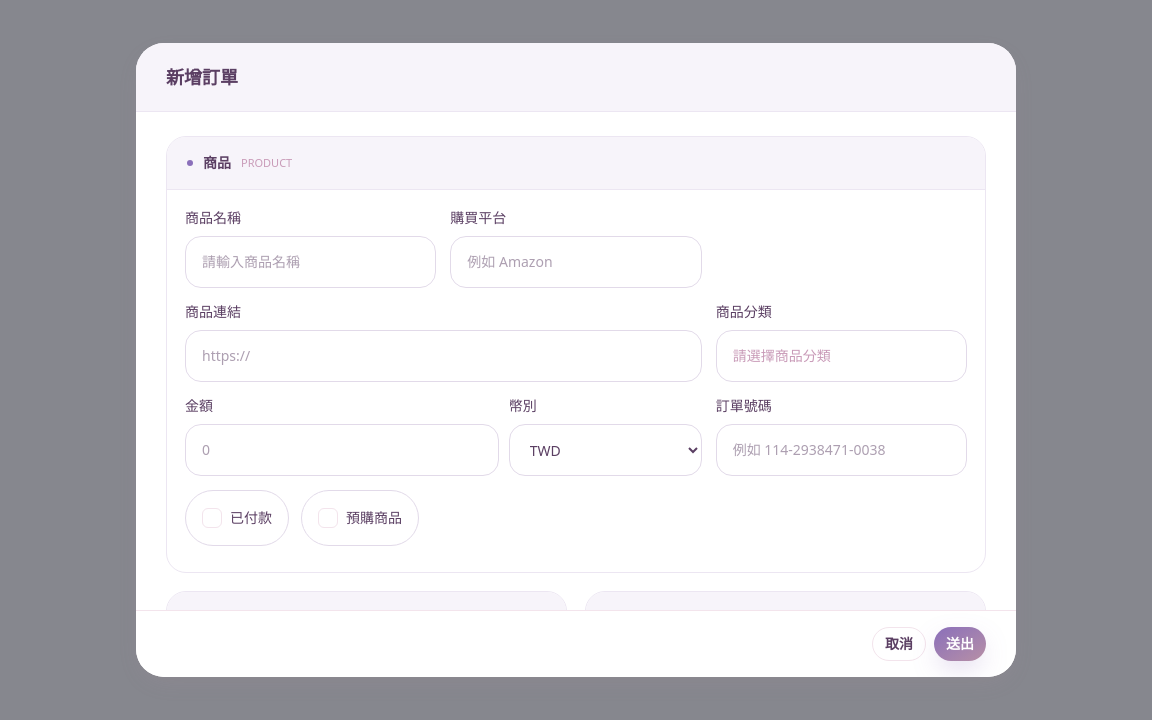
Test: OrderFormModal existing name/amount validation is unaffected › blocks submission and shows an error when product name is blank
The image size is (1152, 720).
In the field labelled "金額": (342, 450) [185, 424, 499, 476], type "100"
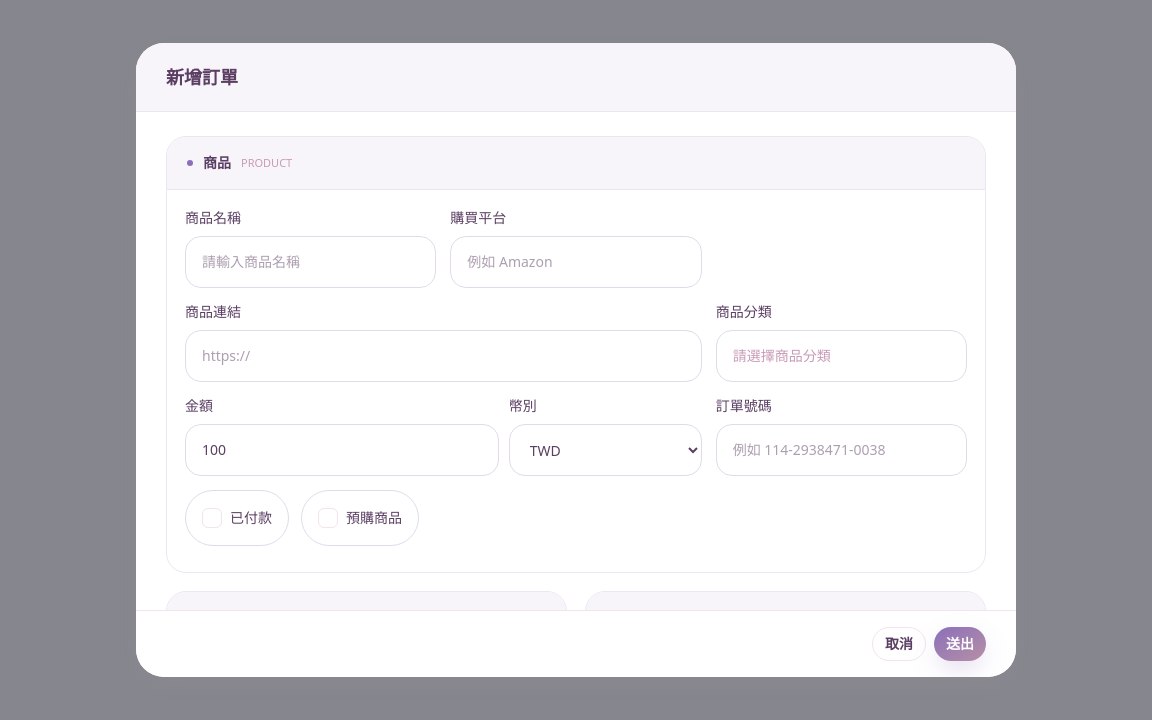
Click the button "請選擇商品分類": (841, 356) [716, 330, 967, 382]
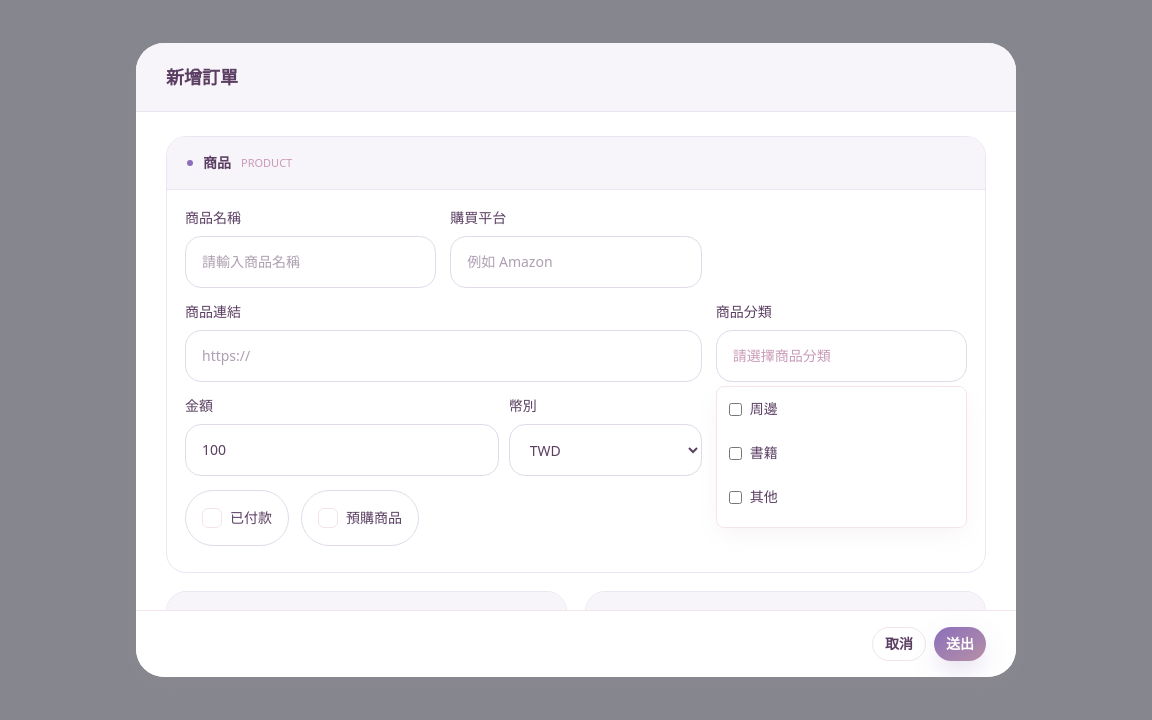
Click the checkbox labelled "周邊": (735, 409) [729, 403, 742, 416]
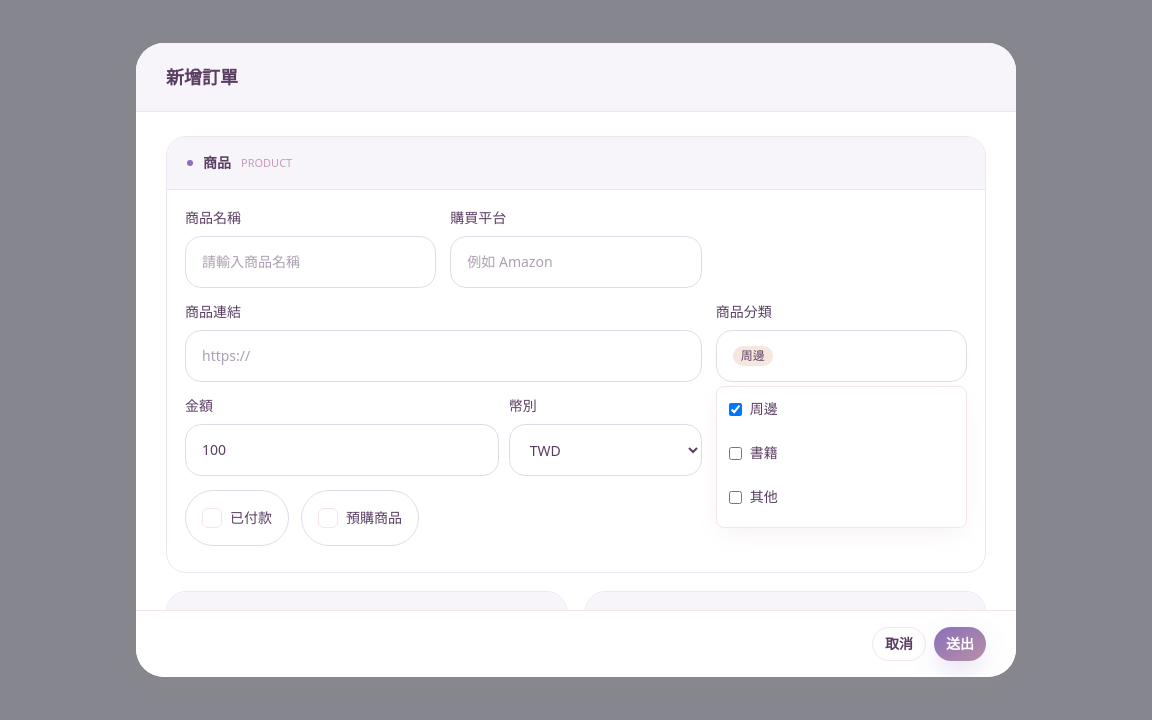
Click the button "送出": (960, 644) [934, 627, 986, 661]
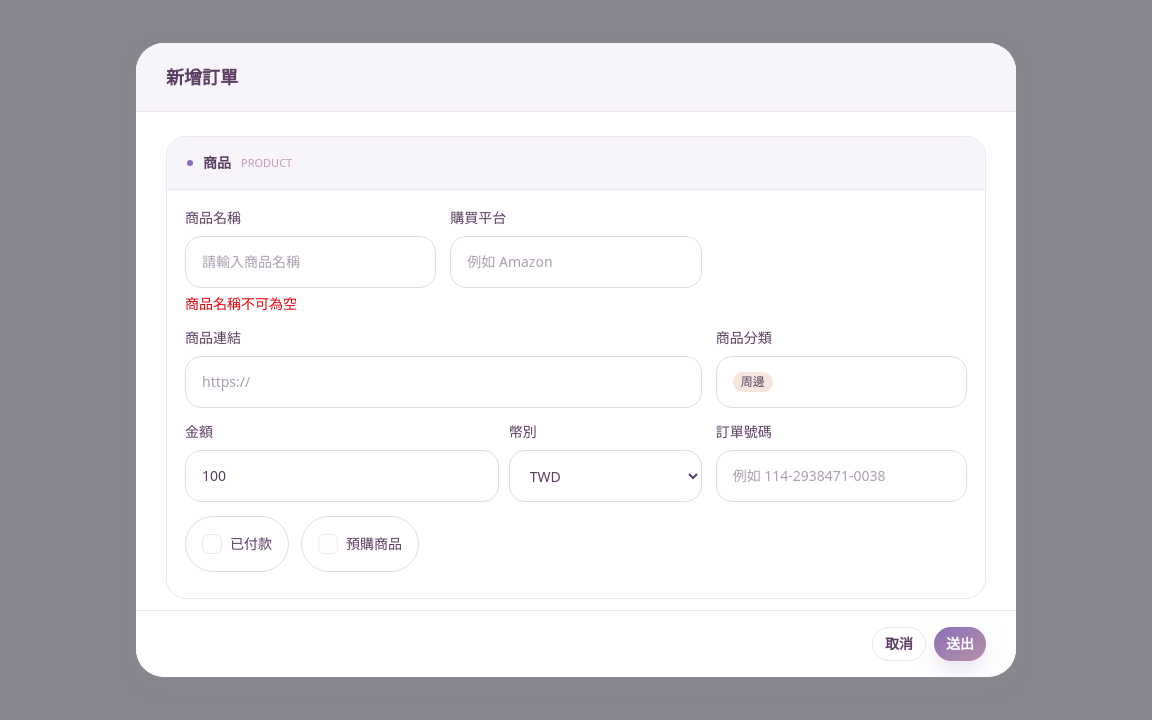
Expected: the text "商品名稱不可為空" is shown, [185, 294, 297, 313]
